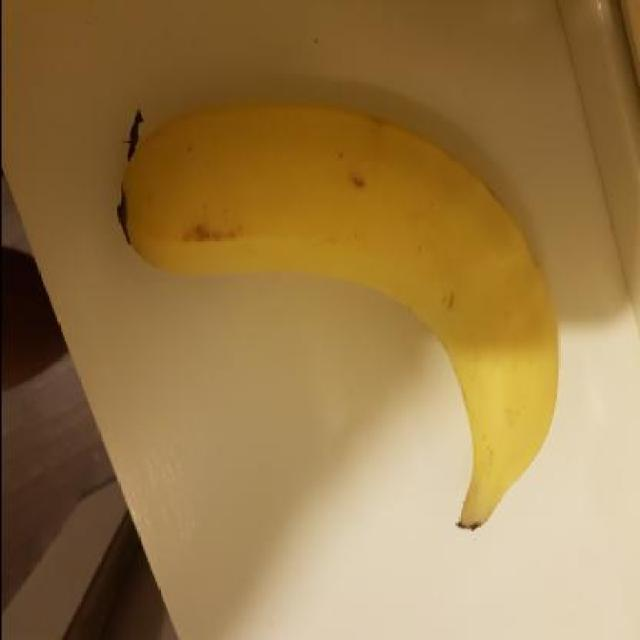Banana: (96, 82, 573, 536)
